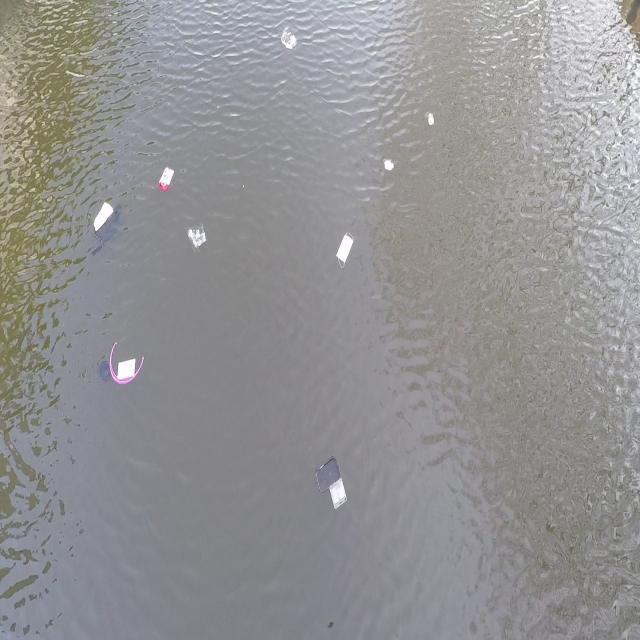Autre plastique: (311, 449, 341, 494), (328, 479, 348, 513)
Non plastique: (334, 229, 353, 272), (426, 113, 434, 127)
